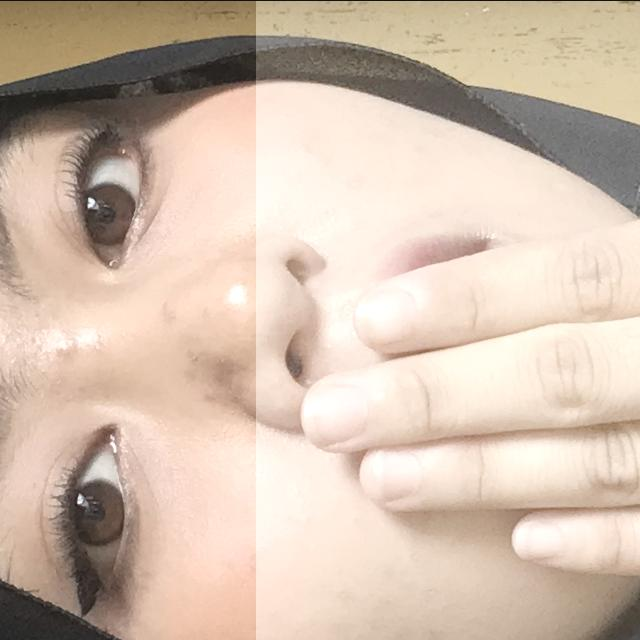ngantuk: (256, 0, 640, 640)
